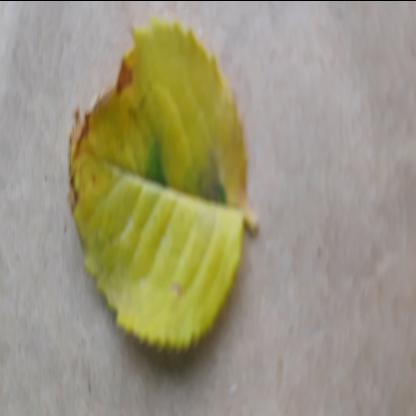black-spot: (67, 14, 250, 350)
